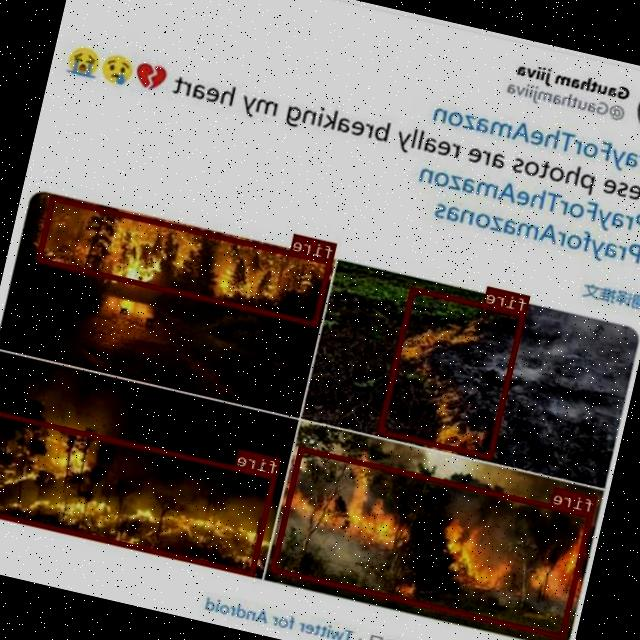fire: (271, 446, 594, 638), (0, 408, 278, 575), (37, 194, 333, 326), (378, 286, 527, 460)
